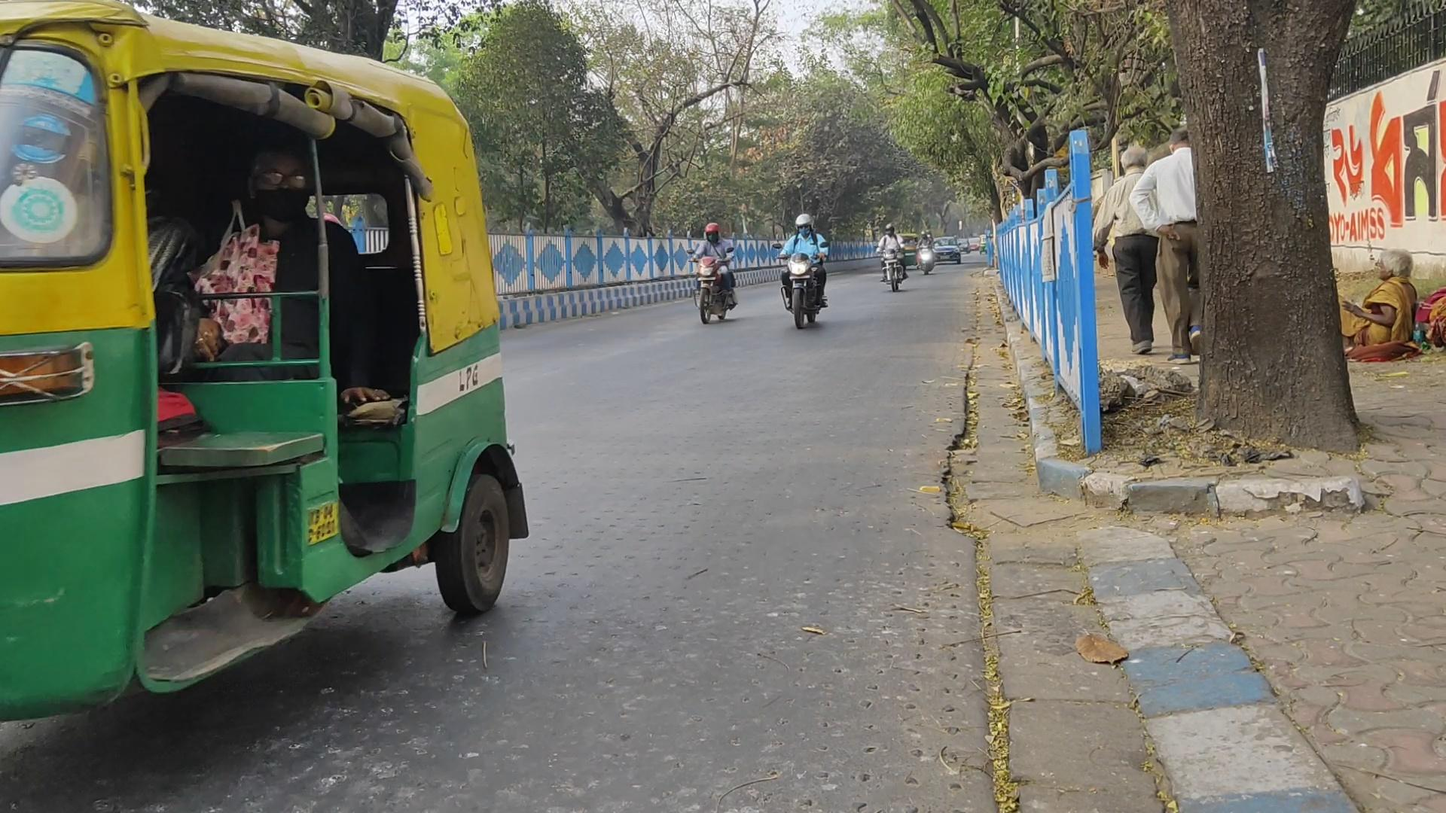Auto: (2, 2, 529, 736)
bike: (775, 213, 830, 330), (688, 222, 737, 327), (876, 221, 908, 293), (917, 229, 937, 276)
car: (933, 235, 962, 268)
